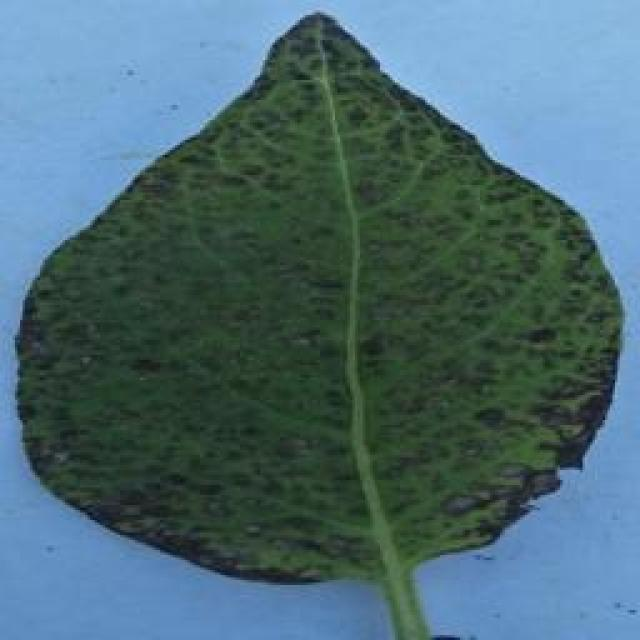Potato_Early_Blight: (18, 7, 631, 588)
